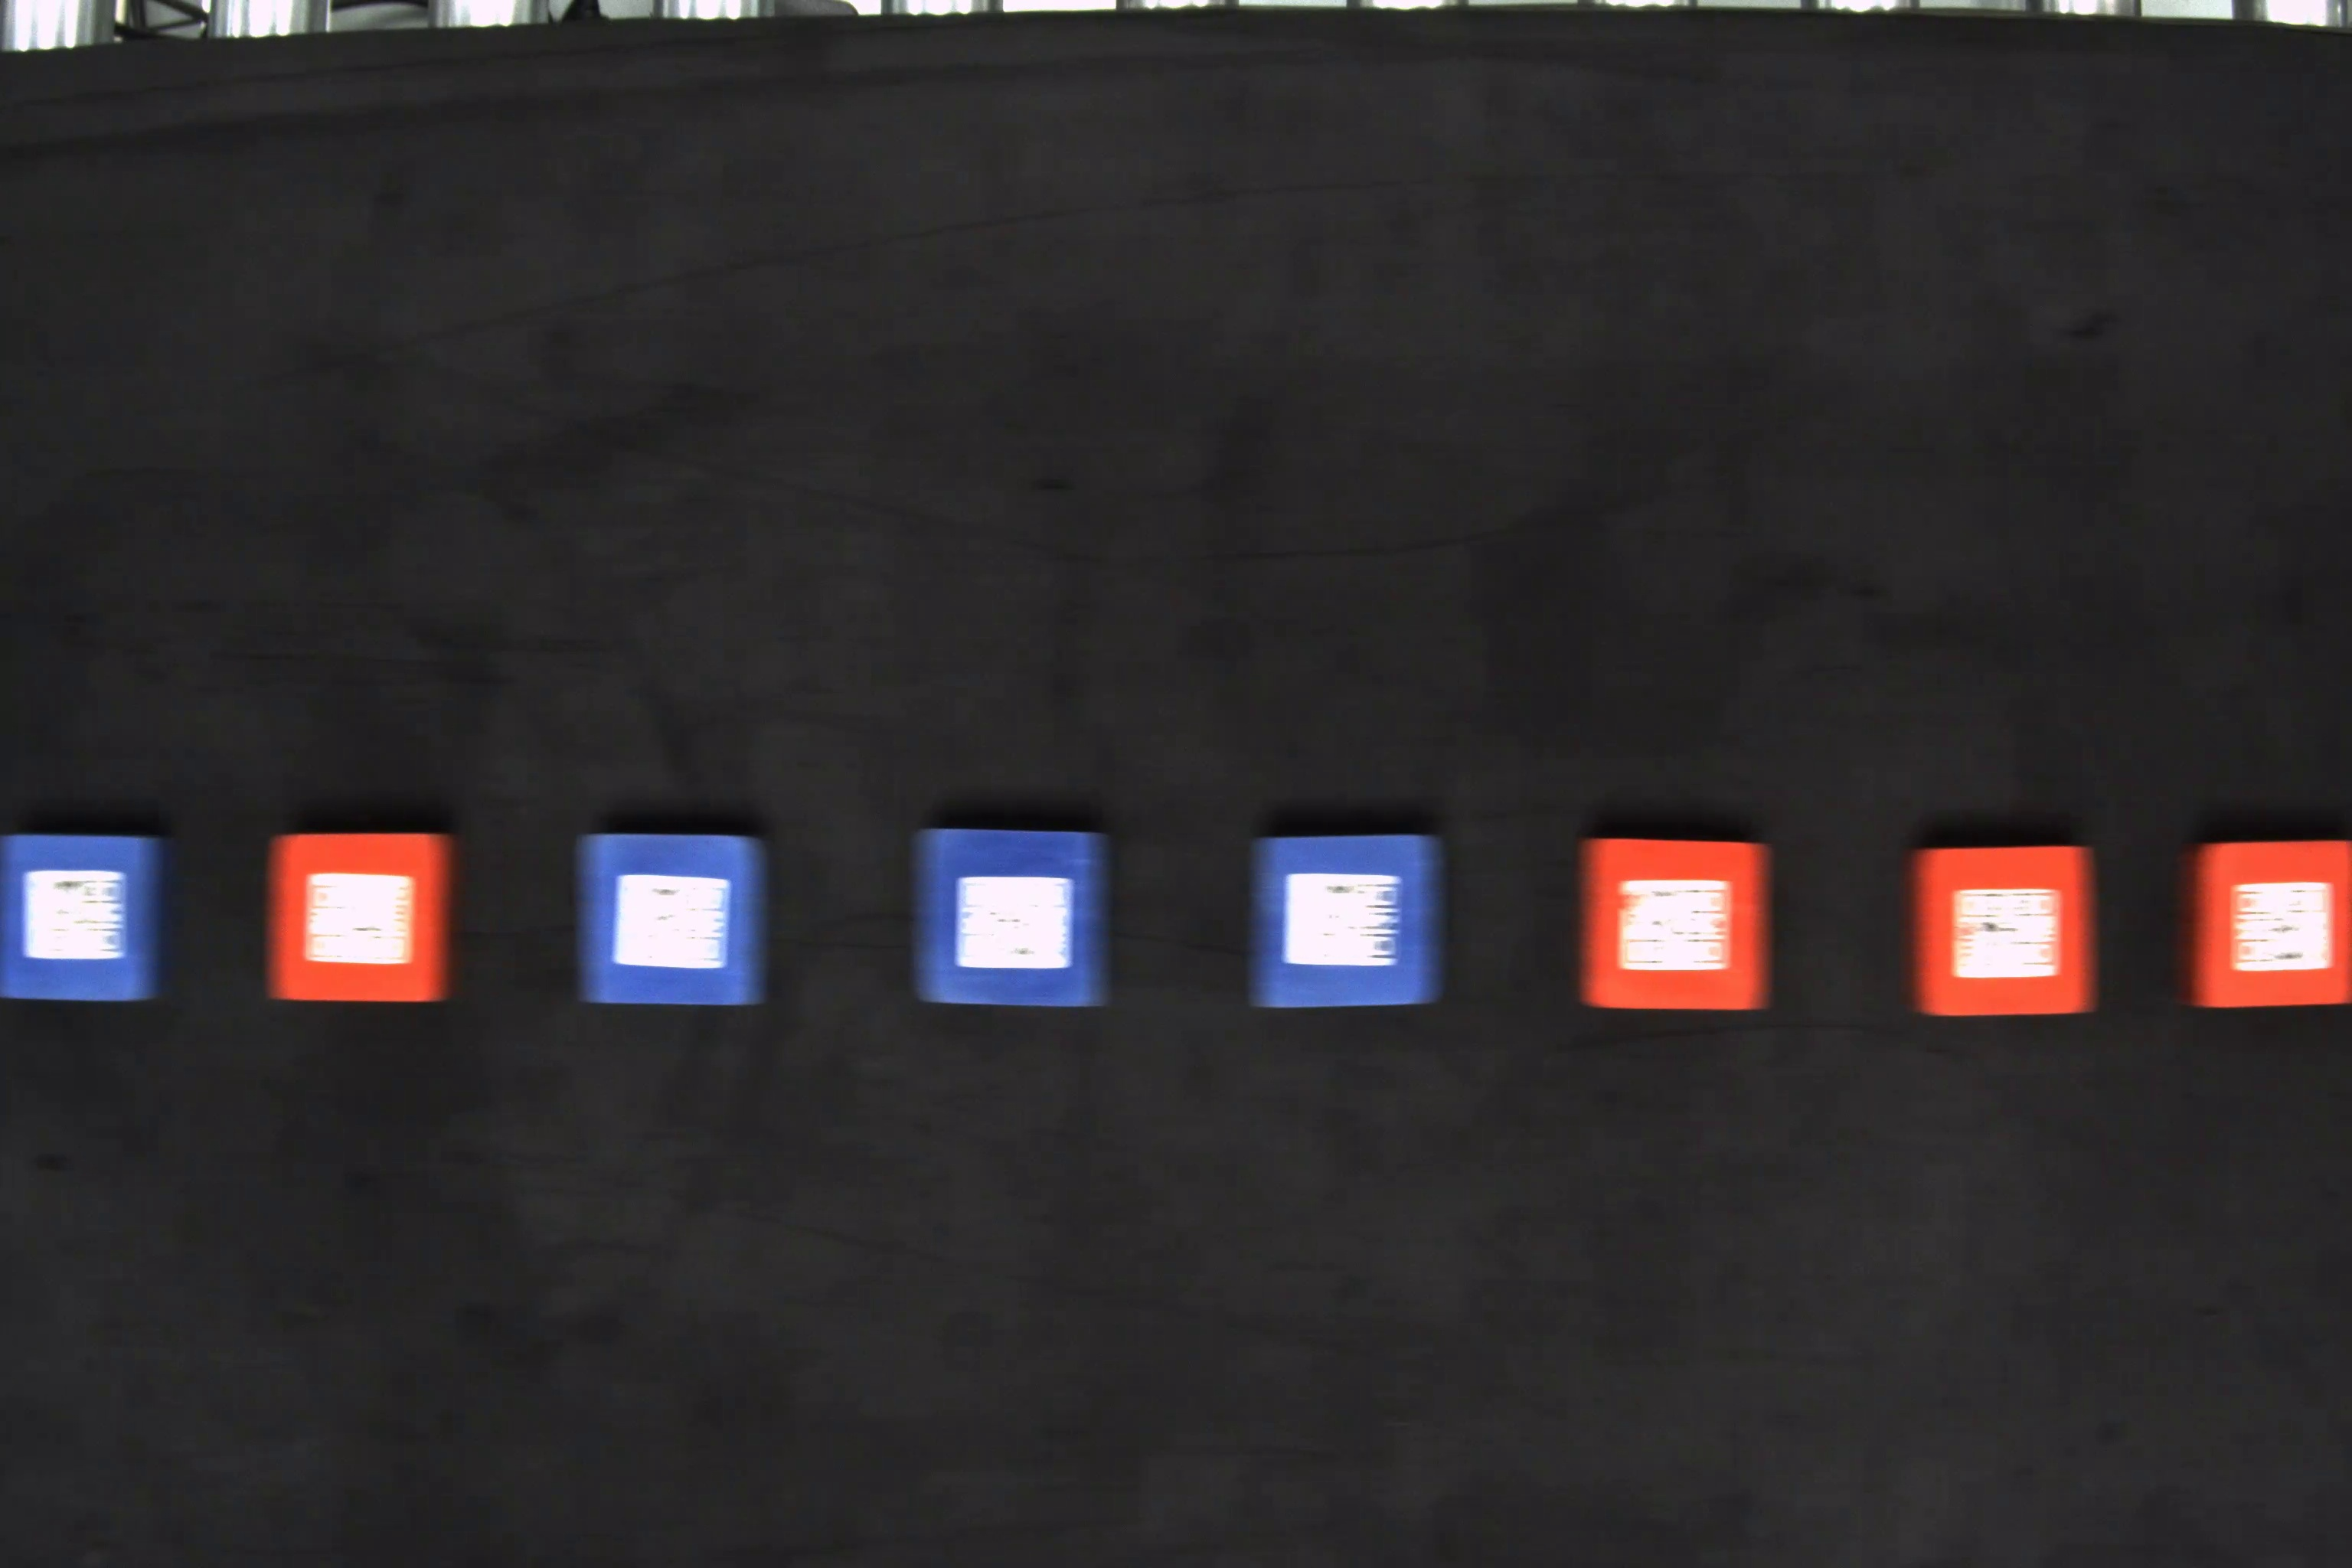wood: (1904, 843, 2105, 1022), (1580, 831, 1776, 1013), (913, 824, 1109, 1004), (570, 831, 773, 1003), (261, 833, 457, 1006), (1251, 831, 1442, 1006), (2184, 840, 2350, 1015), (2, 833, 171, 1003)
